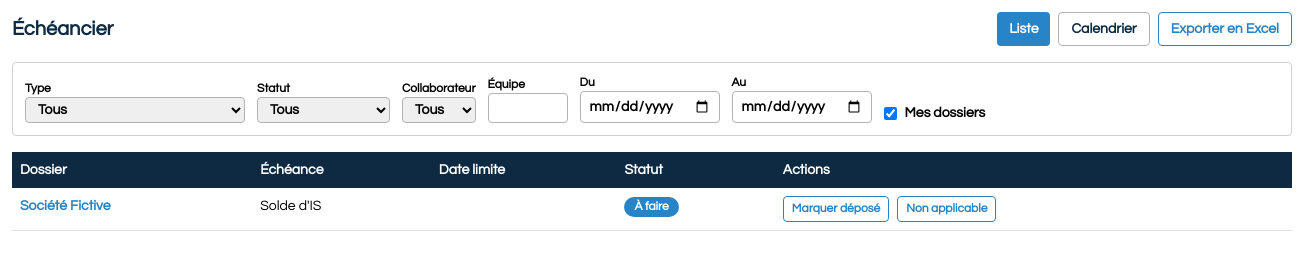
Test: une erreur PostgREST d une action affiche son message
Click the button "Non applicable". click: (947, 209)
box: [897,196,996,222]
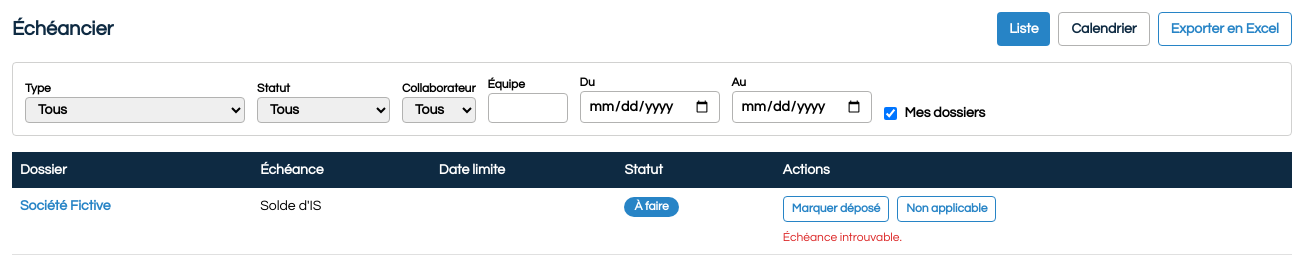
Result: the message reads "Échéance introuvable." at [783,231,902,244]
